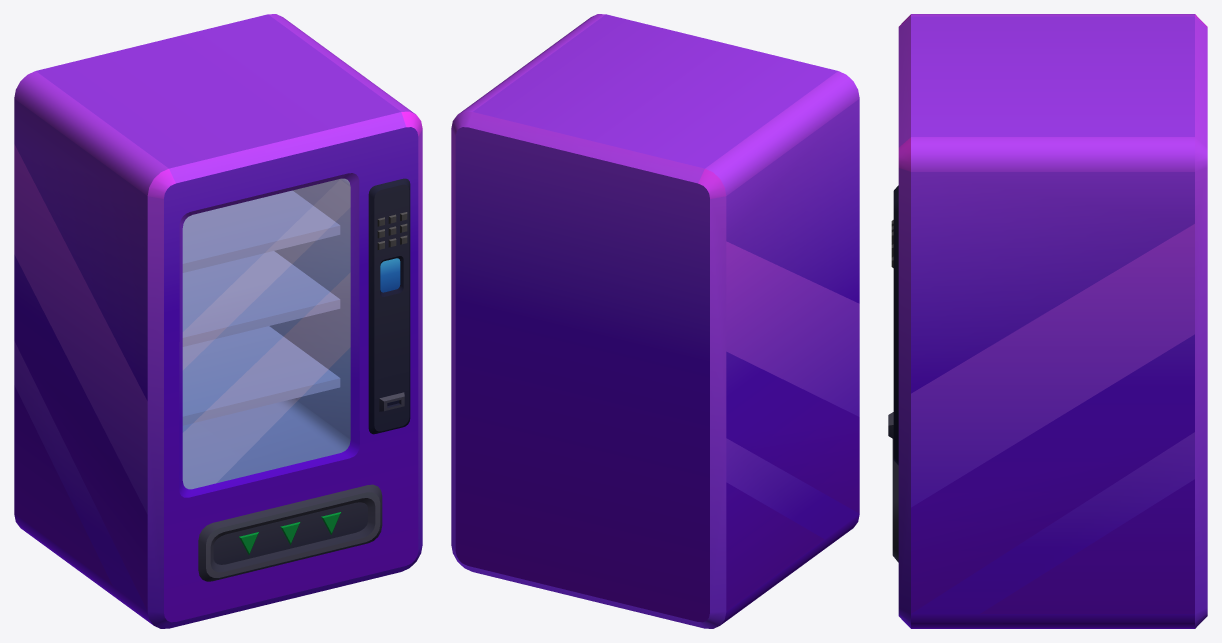
The model's file is vending.fbx.
The picture shows the model from 3 angles, left to right: view 1: azimuth 30°, elevation 25°; view 2: azimuth 150°, elevation 25°; view 3: azimuth 270°, elevation 25°; orthographic projection. The views are drawn at different scales.
Parts seen in each view (by area): view 1: vending_machine; view 2: vending_machine; view 3: vending_machine.
Part boxes in pixels (x1=…): vending_machine: x1=14, y1=14, x2=422, y2=628; vending_machine: x1=451, y1=14, x2=859, y2=628; vending_machine: x1=888, y1=14, x2=1207, y2=628.
Size of the model in its own units: 109 by 179 by 103.
